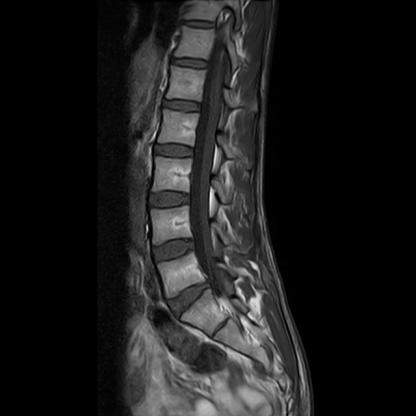Degenerative Disc Diseaserotation: (164, 279, 215, 315)
Disc Bulgerotation: (165, 280, 216, 315)
